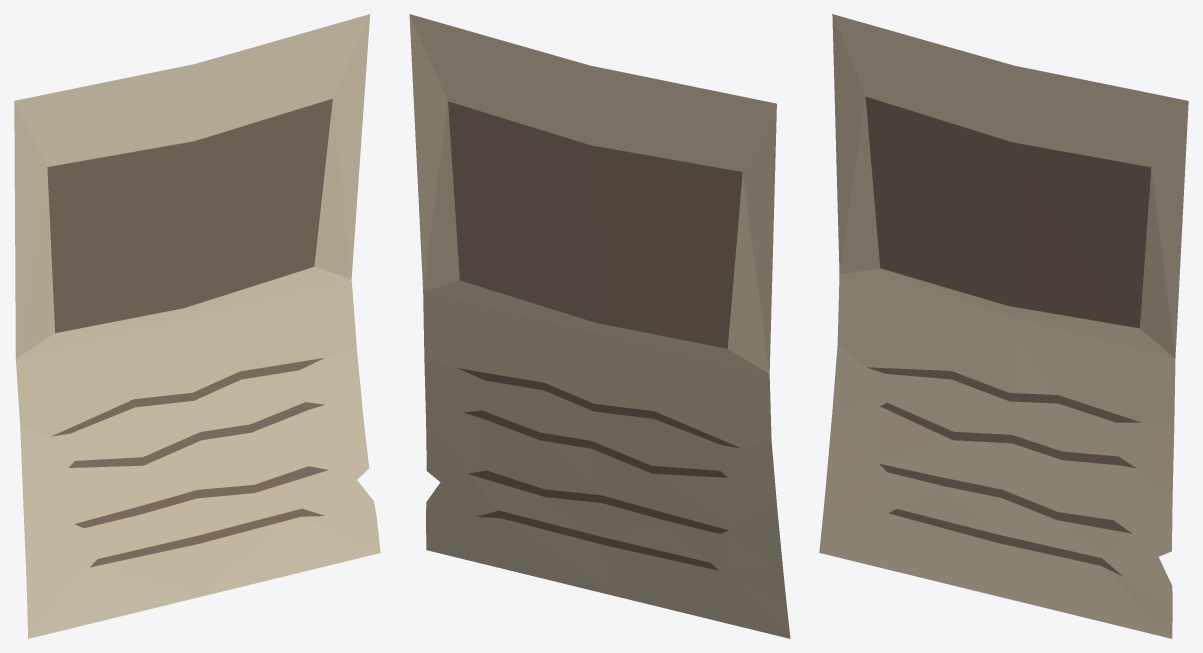
File: SFHW_Paper_004.fbx
3 renders of one model, left to right at view 1: azimuth 30°, elevation 25°; view 2: azimuth 150°, elevation 25°; view 3: azimuth 330°, elevation 25°, orthographic. The views are drawn at different scales.
Visible parts, largest first — view 1: SFHW_Paper_004; view 2: SFHW_Paper_004; view 3: SFHW_Paper_004.
Boxes of the visible parts, x1,y1,x2,y2 form: SFHW_Paper_004: (14, 14, 380, 638); SFHW_Paper_004: (409, 14, 790, 638); SFHW_Paper_004: (819, 14, 1188, 638).
Bounding box in the file's own units: 19.26 × 27.32 × 1.59.
